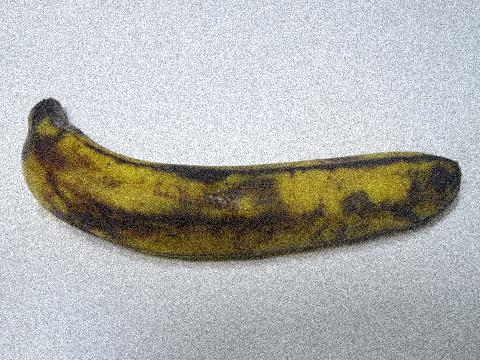overripe: (13, 80, 479, 284)
rotten: (160, 140, 296, 242)
